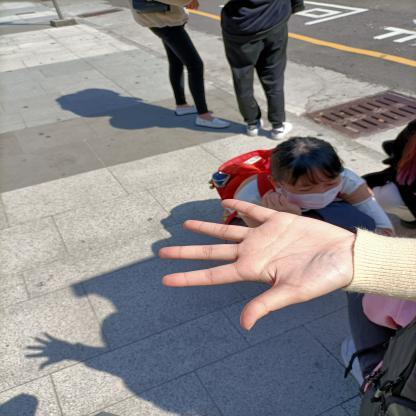bare_hand: (148, 192, 378, 336)
